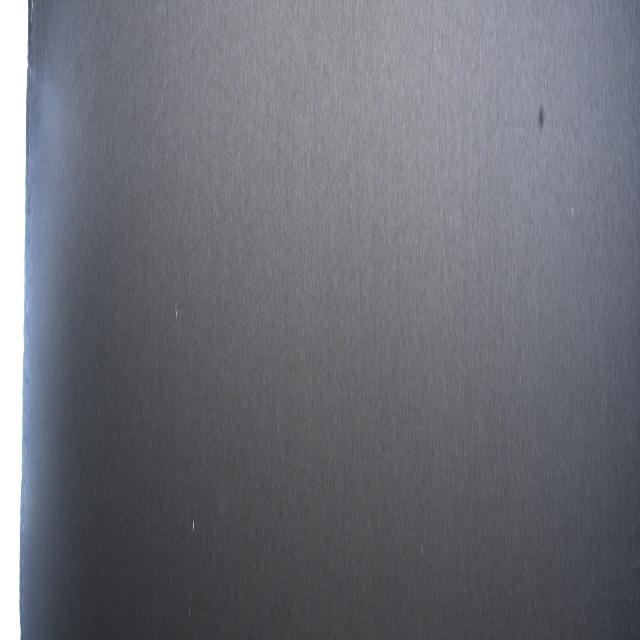crease: (350, 97, 369, 463), (591, 541, 640, 619)
whiteDefect: (174, 302, 179, 325), (420, 539, 425, 561), (192, 514, 196, 534)
